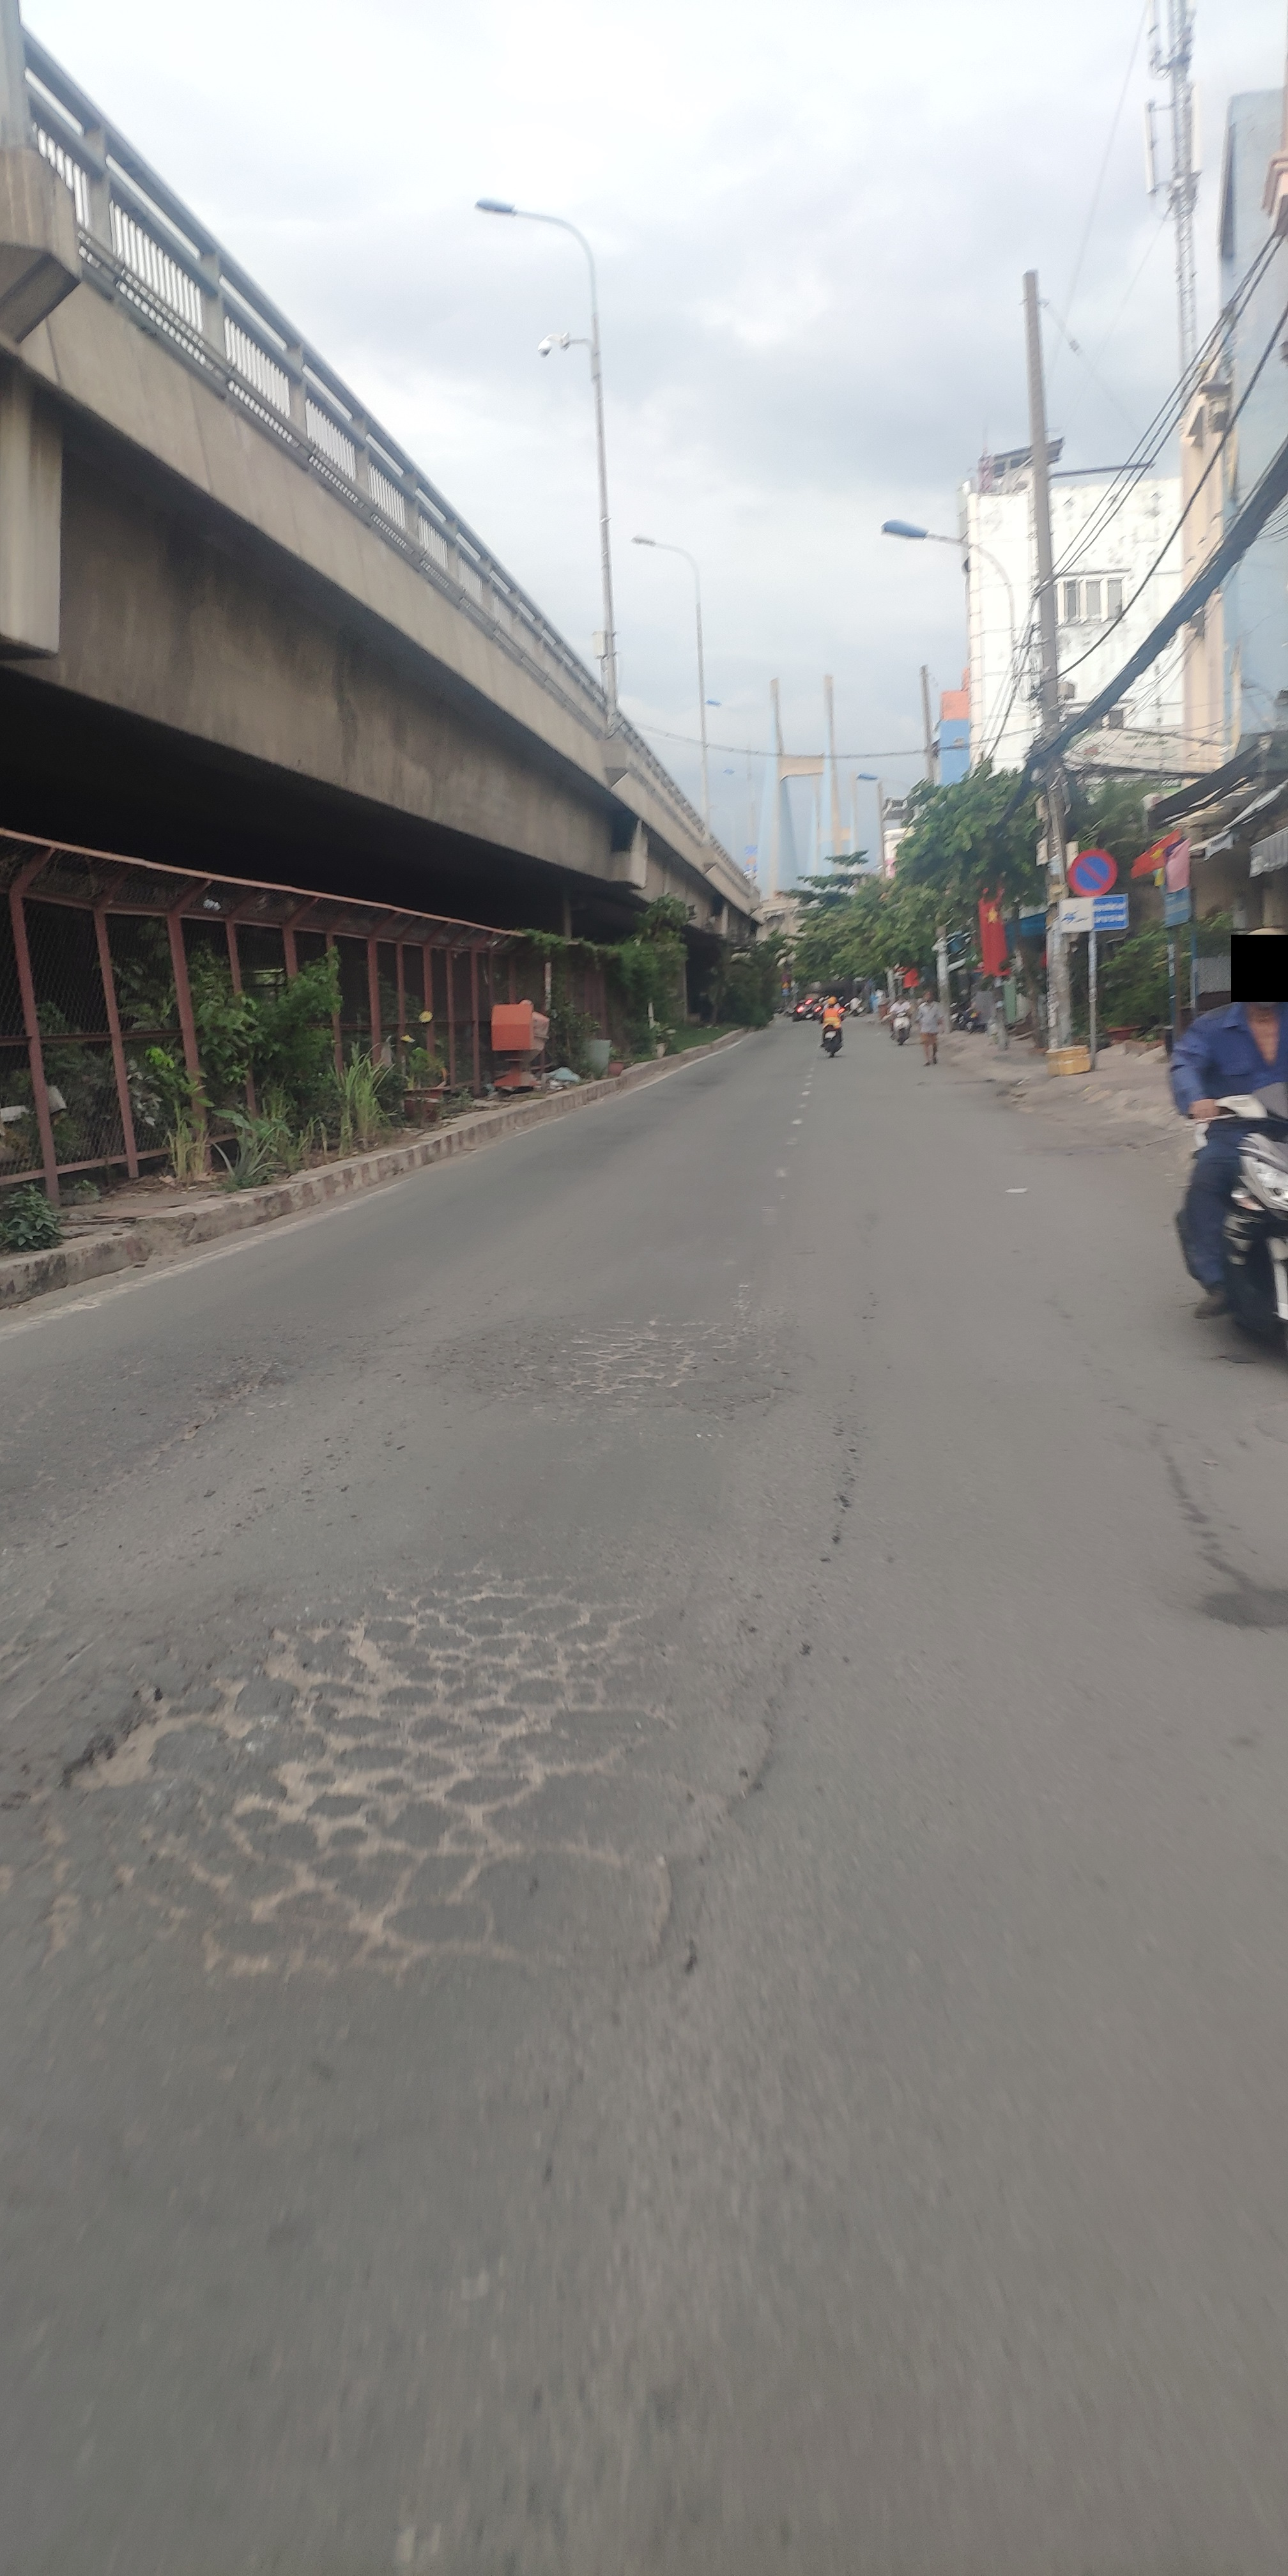hole: (44, 1534, 757, 1975), (427, 1293, 821, 1433)
